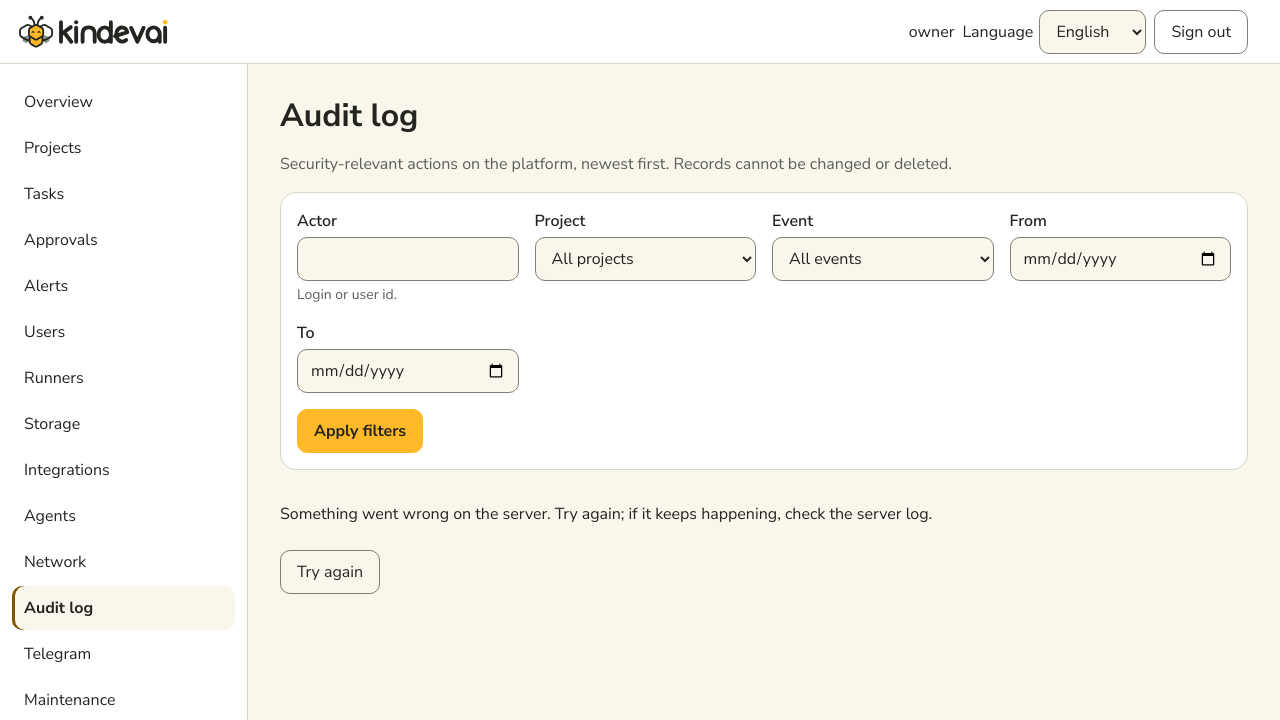
audit log (owner) › shows an error with a retry
Expected: the message is shown, [280,502,932,526]
Click the button "Try again": (330, 572) [280,550,380,594]
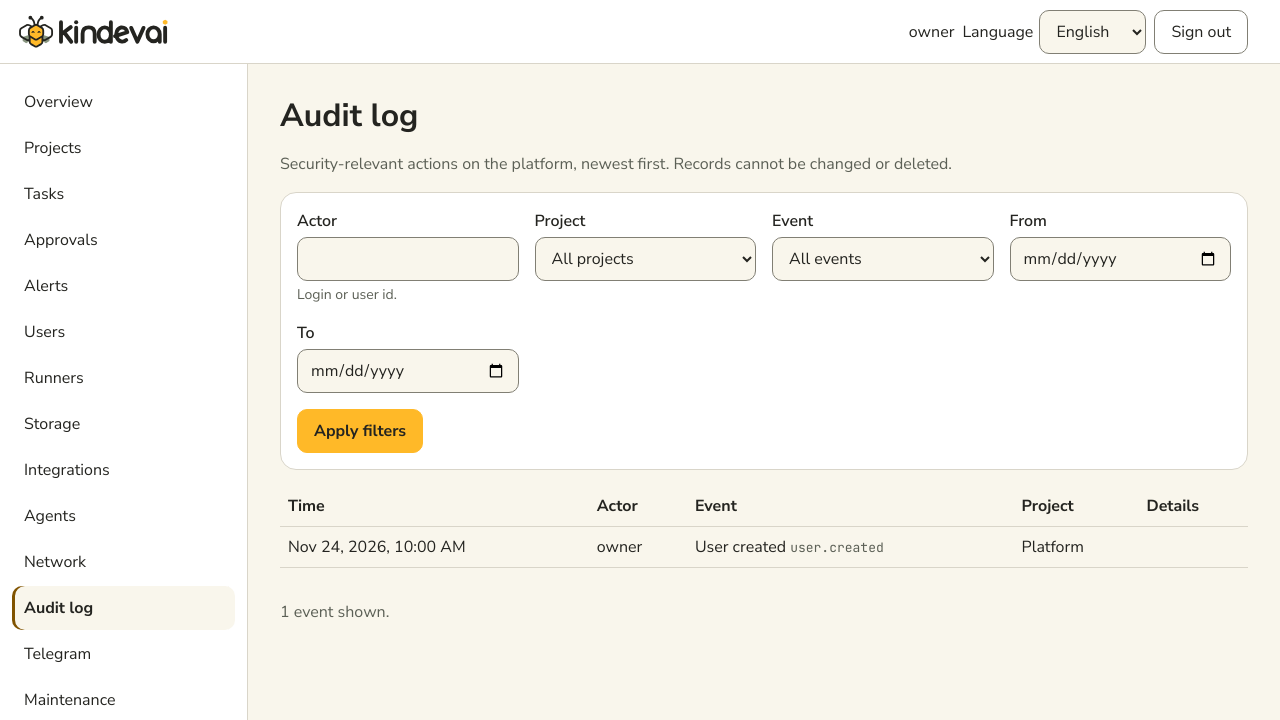
Expected: the text "1 event shown." is shown, [280,600,389,624]
